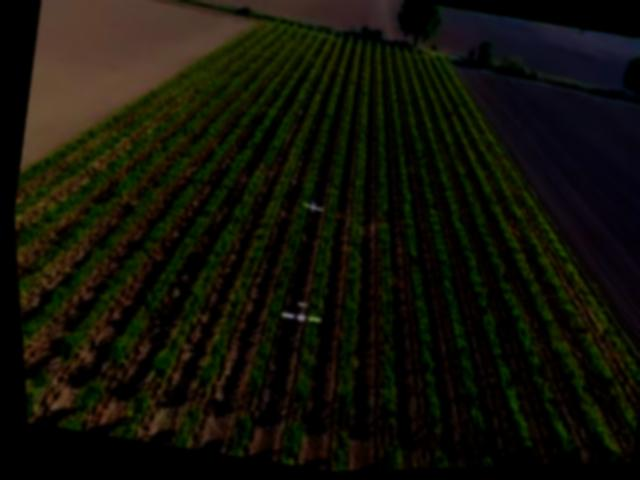uav: (273, 298, 321, 331), (291, 197, 326, 216)
